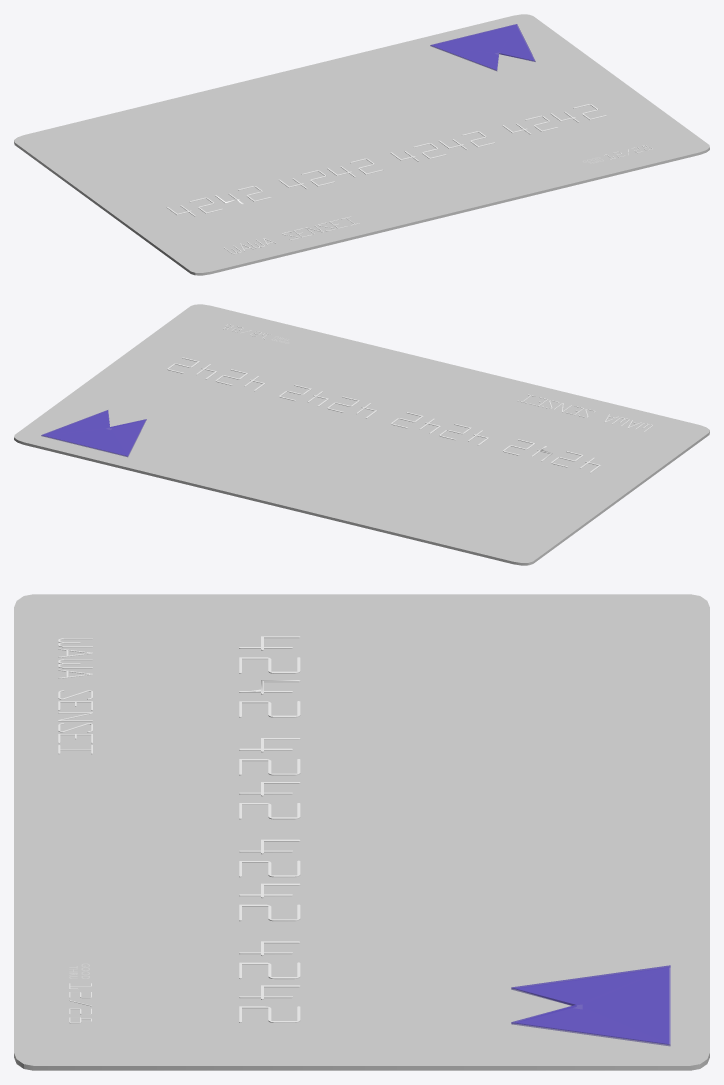
Rendered from WawaCard.glb.
3 views of the same model, one above another, from view 1: azimuth 30°, elevation 25°; view 2: azimuth 150°, elevation 25°; view 3: azimuth 270°, elevation 25° (orthographic). The views are drawn at different scales.
Parts seen in each view (by area): view 1: Plane, Text, number, wawa sensei 3; view 2: Plane, Text, number, wawa sensei 3; view 3: Plane, Text, number, wawa sensei 3.
Part boxes in pixels (x1=…): Plane: x1=14, y1=14, x2=709, y2=275; Text: x1=430, y1=24, x2=535, y2=70; number: x1=166, y1=104, x2=606, y2=216; wawa sensei 3: x1=224, y1=216, x2=359, y2=254; Plane: x1=14, y1=304, x2=709, y2=565; Text: x1=41, y1=410, x2=146, y2=457; number: x1=167, y1=357, x2=601, y2=473; wawa sensei 3: x1=518, y1=394, x2=652, y2=431; Plane: x1=14, y1=594, x2=709, y2=1070; Text: x1=511, y1=965, x2=670, y2=1046; number: x1=239, y1=636, x2=300, y2=1022; wawa sensei 3: x1=58, y1=638, x2=92, y2=754.
Bounding box in the file's own units: 1.68 × 0.012 × 1.05.
